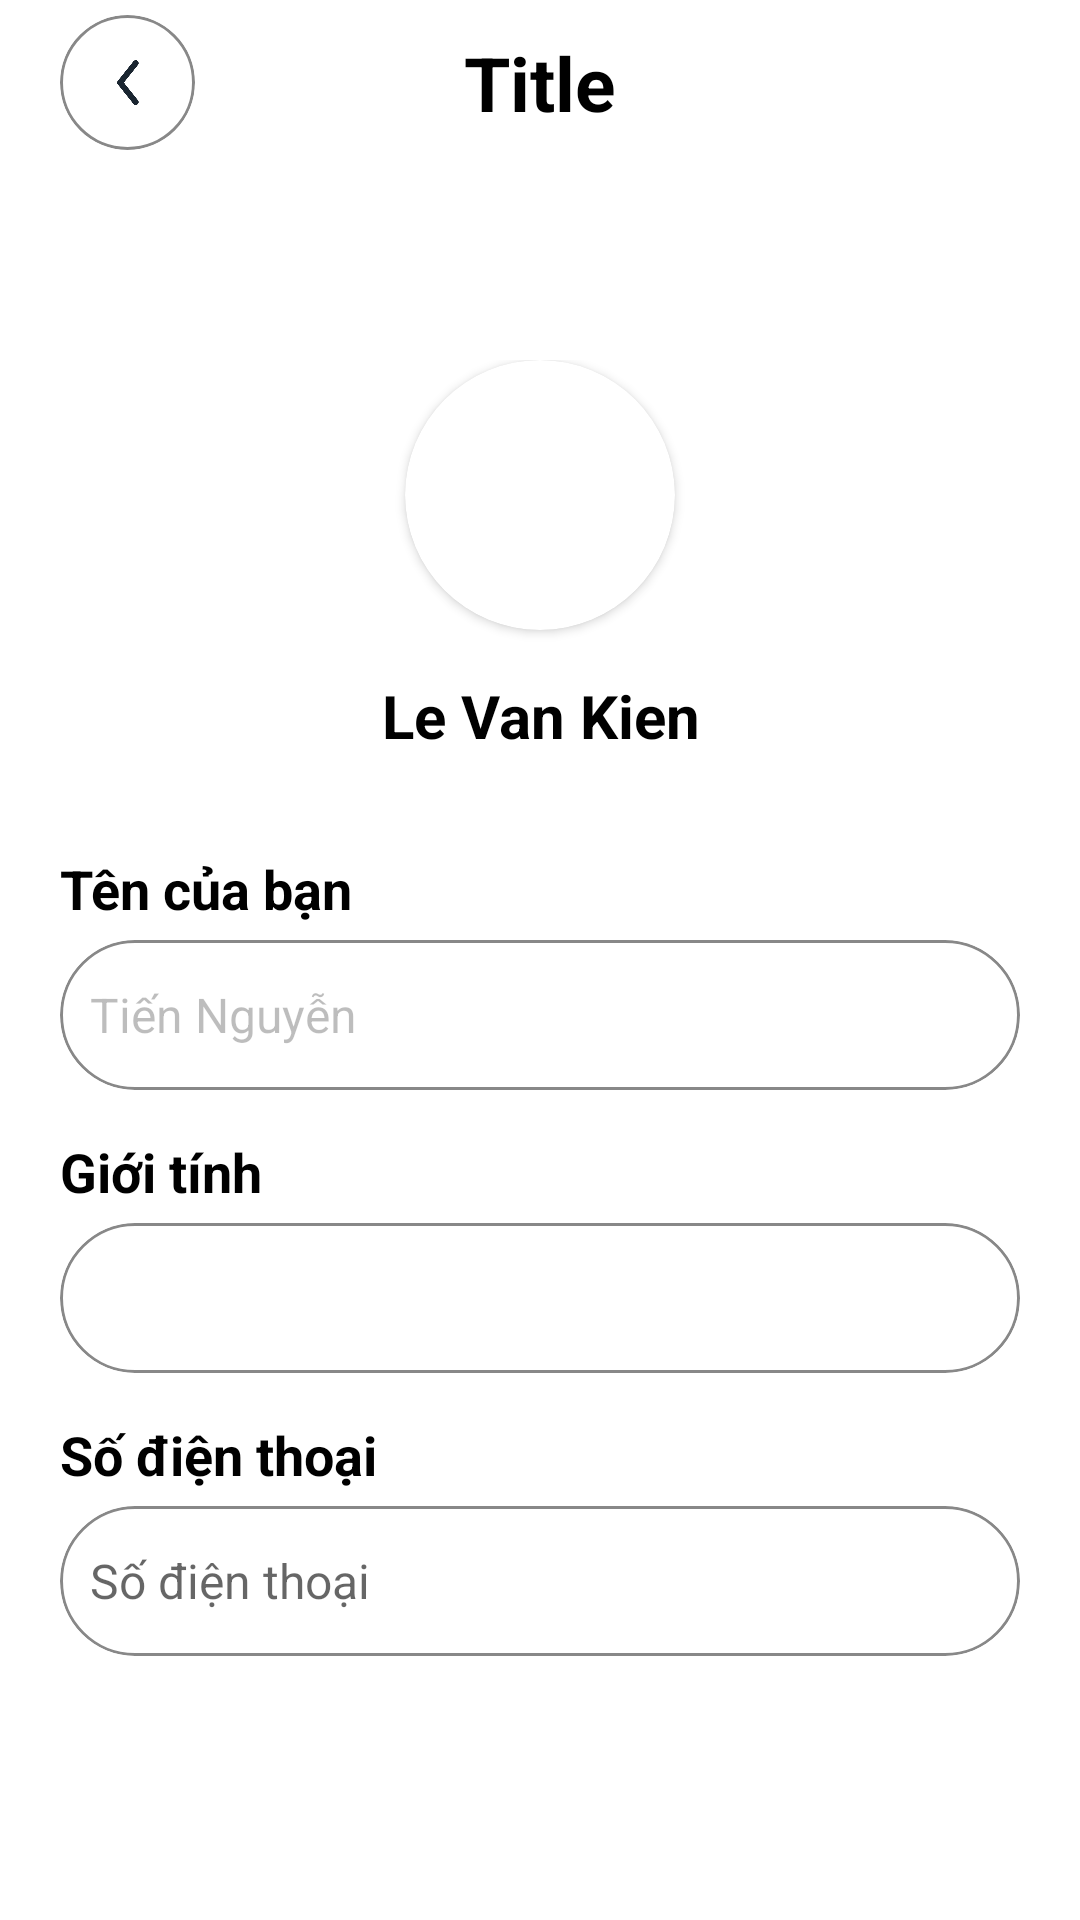

Named icons in this screenshot (1080px x 1920px) and their bounding boxes, detection(x1, y1, x2, y2):
angle left: detection(60, 15, 195, 150)
